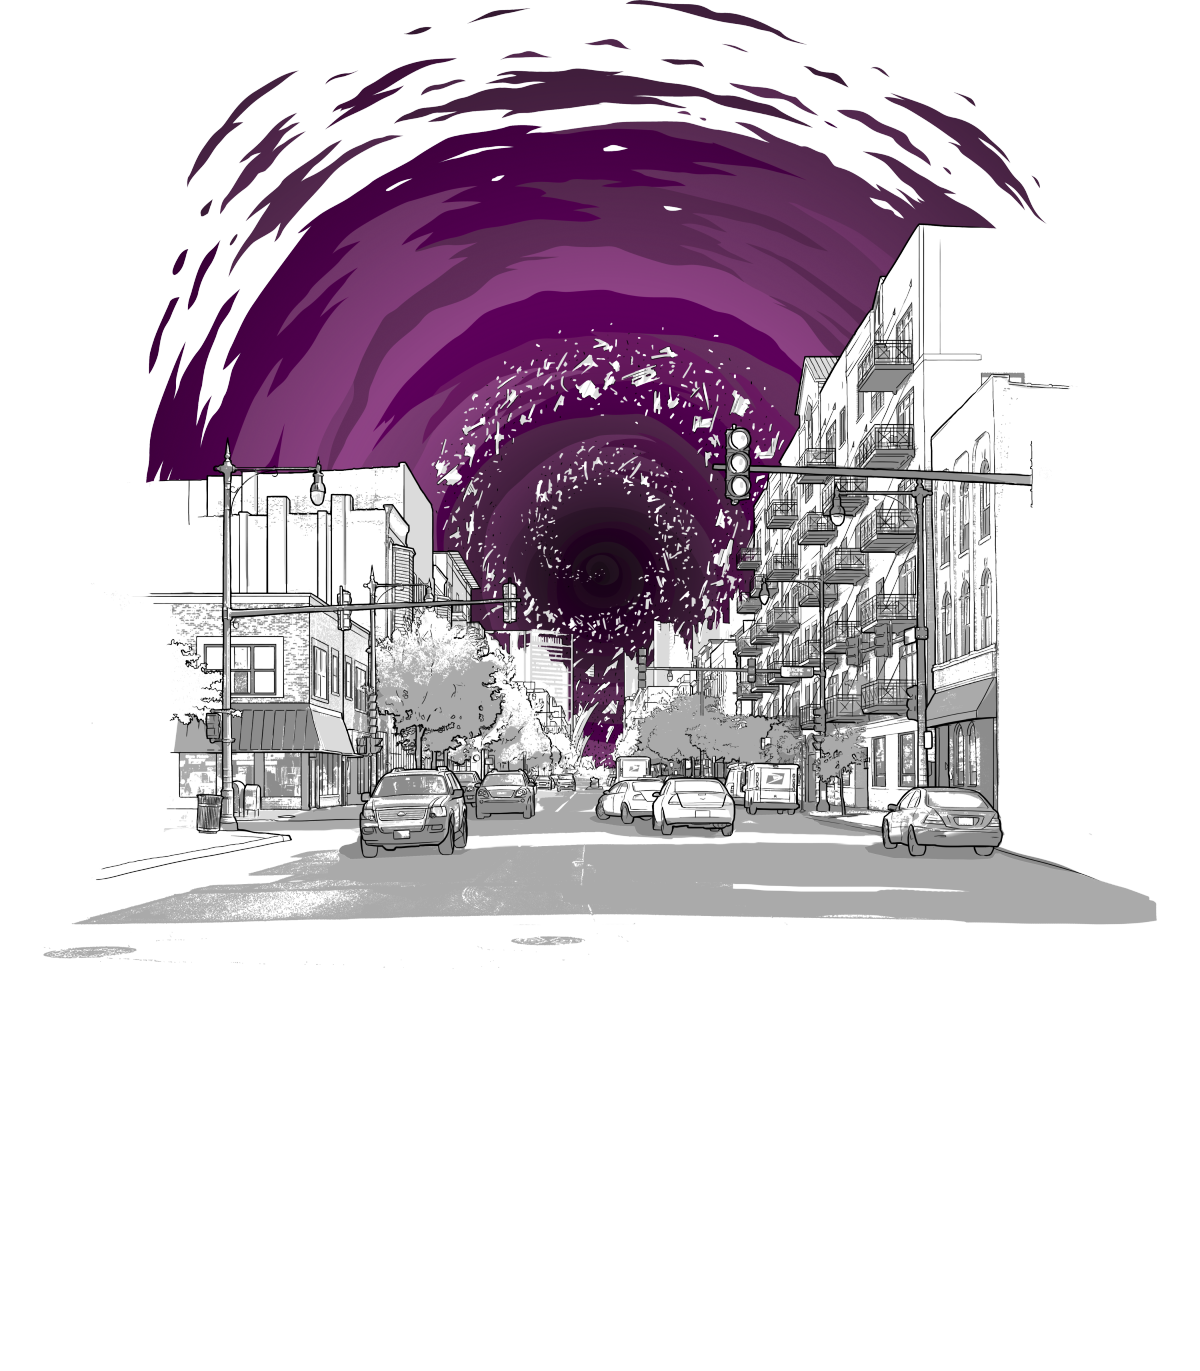design: (38, 1, 1187, 985)
